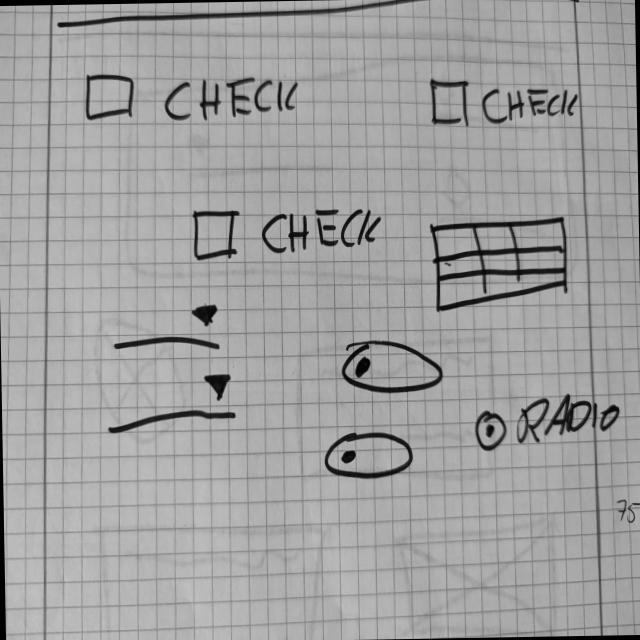checkbox: (85, 66, 302, 129), (192, 203, 385, 262), (430, 76, 584, 134)
radio: (473, 408, 512, 454)
select: (105, 371, 242, 439), (111, 298, 224, 354)
table: (429, 215, 571, 315)
toggle: (341, 336, 446, 398), (324, 428, 416, 483)
